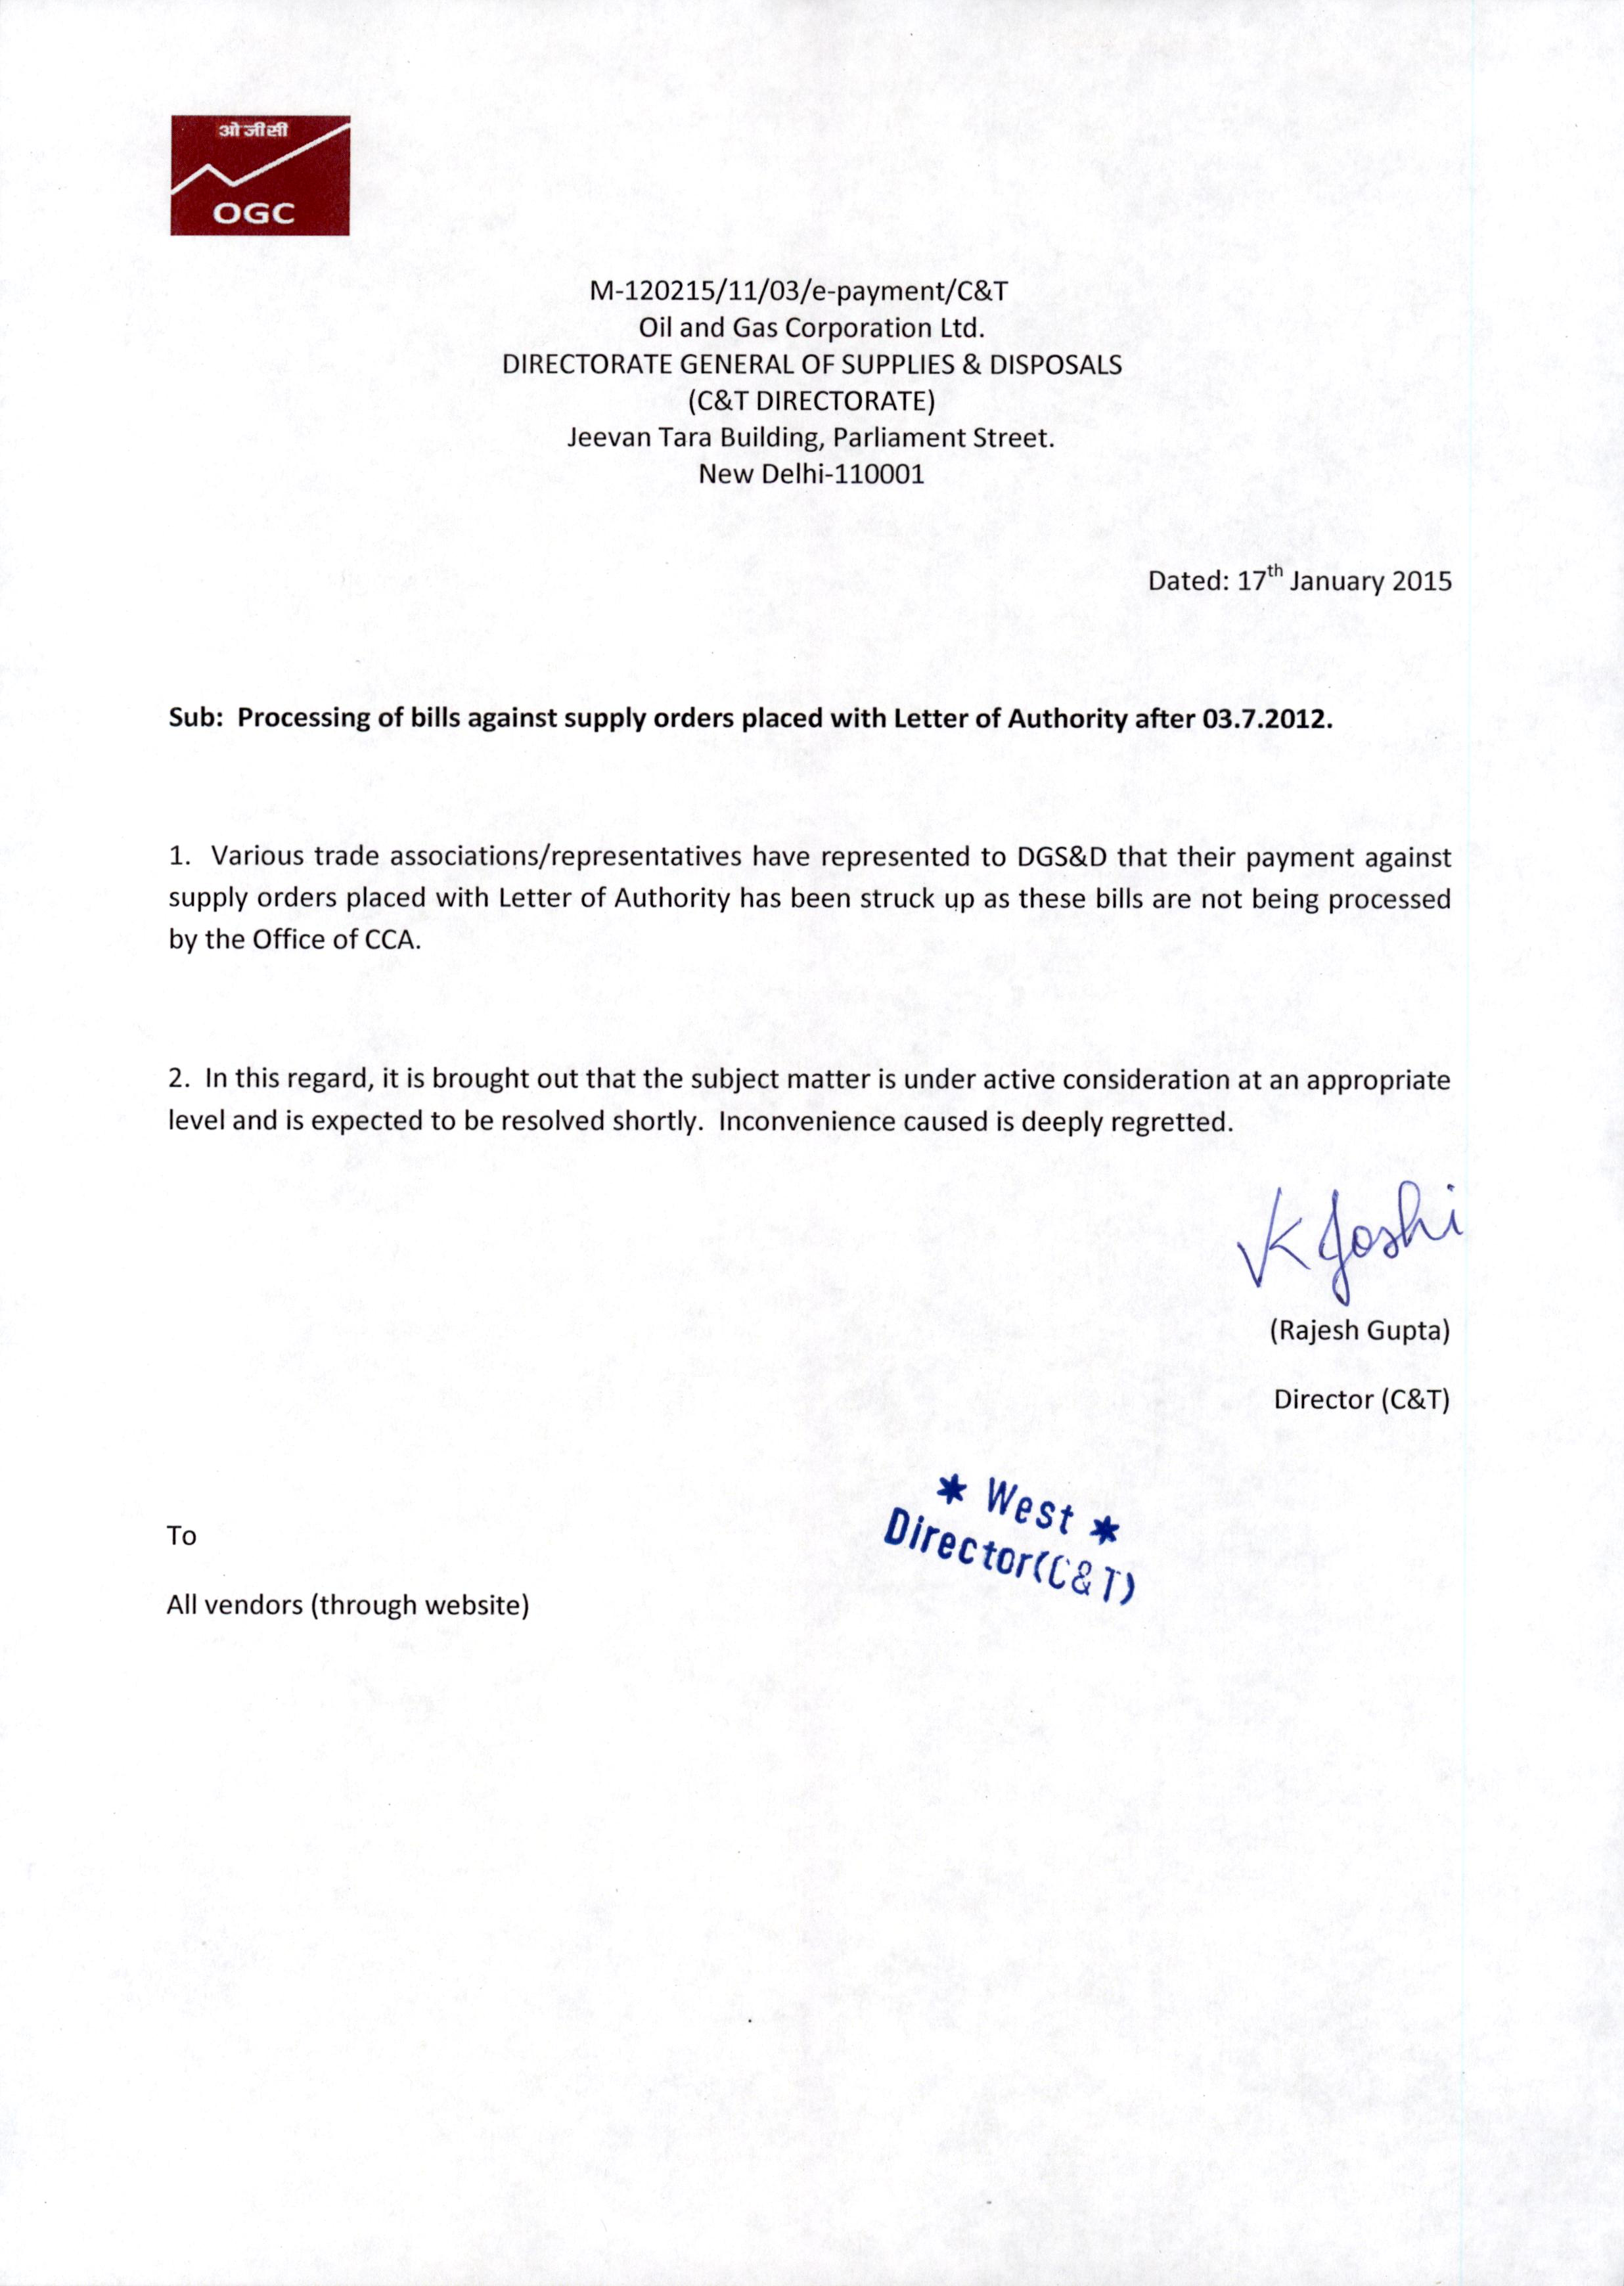Signature: (1225, 1168, 1464, 1314)
